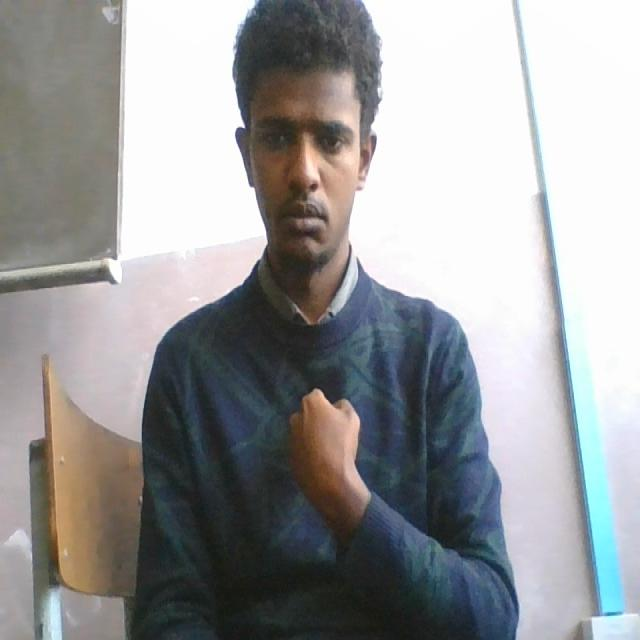ene: (279, 379, 370, 530)
